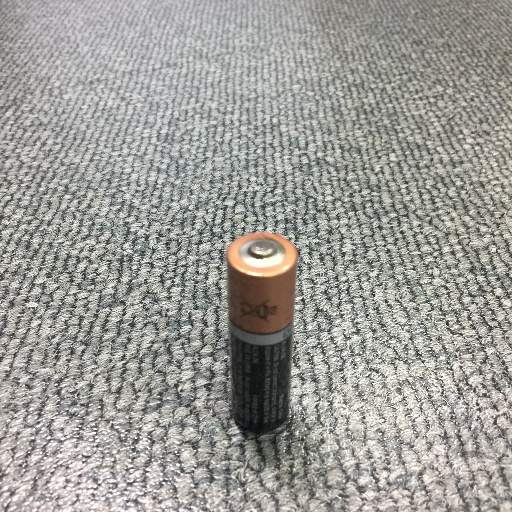Battery_0: (223, 225, 305, 448)
